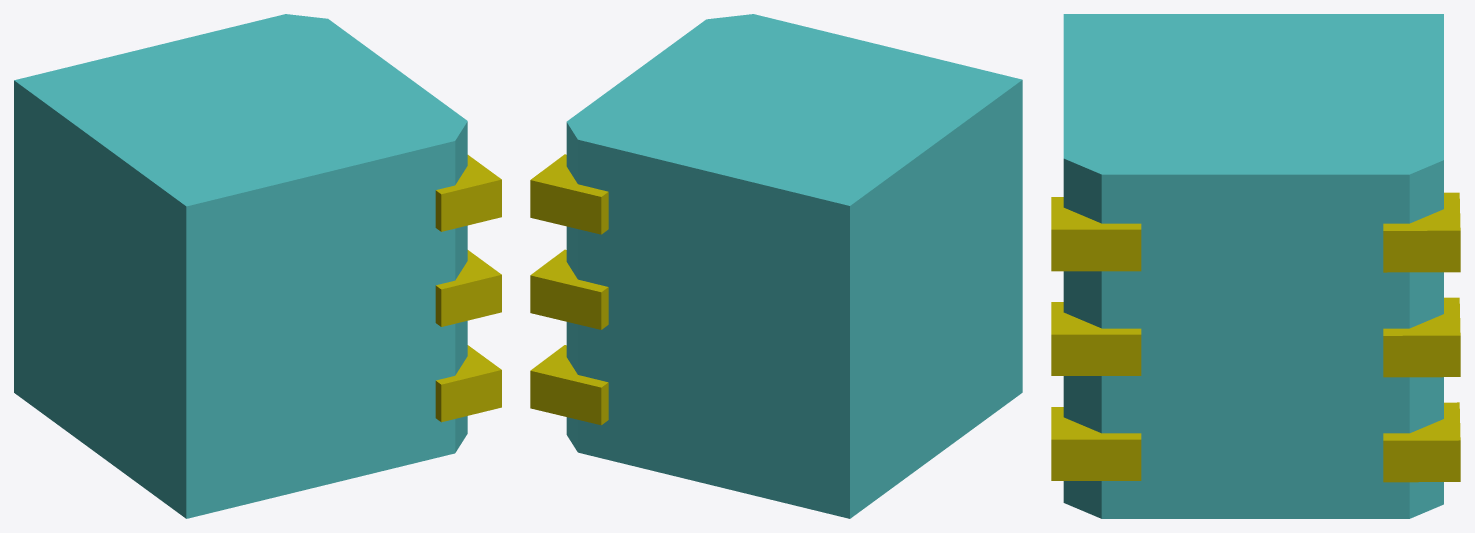
The model's file is Left Connect BlueYellow.fbx.
3 renders of one model, left to right at view 1: azimuth 30°, elevation 25°; view 2: azimuth 150°, elevation 25°; view 3: azimuth 270°, elevation 25°, orthographic. The views are drawn at different scales.
Parts seen in each view (by area): view 1: pCube10; view 2: pCube10; view 3: pCube10.
Part boxes in pixels (x1,y1,x2,y2): pCube10: [14, 14, 501, 518]; pCube10: [530, 14, 1022, 518]; pCube10: [1051, 14, 1460, 518].
Size of the model in its own units: 2.09 by 2 by 2.15.
